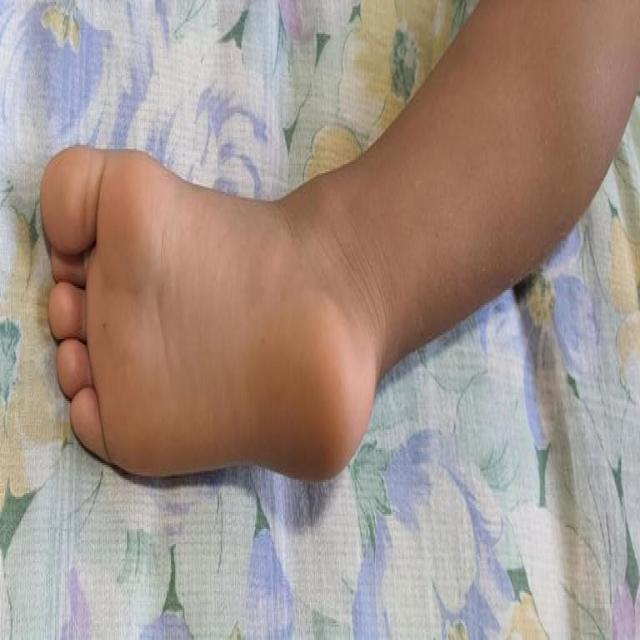No_Shoes: (9, 112, 378, 517)
